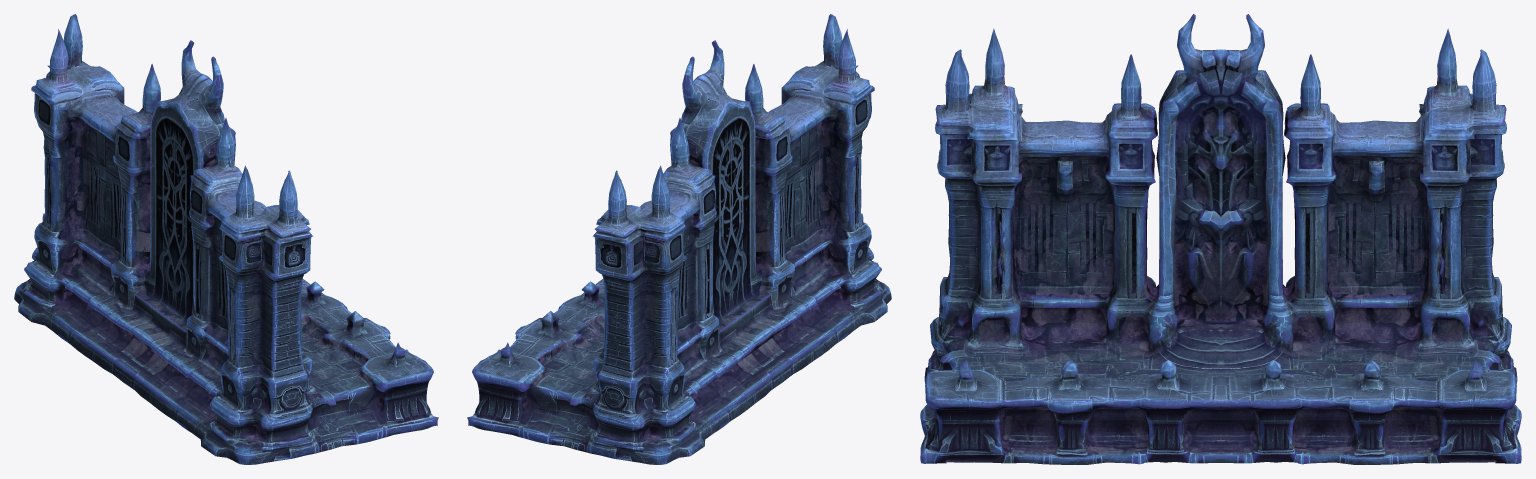
File: BossENT1.fbx
The picture shows the model from 3 angles, left to right: view 1: azimuth 30°, elevation 25°; view 2: azimuth 150°, elevation 25°; view 3: azimuth 270°, elevation 25°; orthographic projection. The views are drawn at different scales.
Visible parts, largest first — view 1: BossENT1; view 2: BossENT1; view 3: BossENT1.
Part boxes in pixels (x1,y1,x2,y2): BossENT1: [14, 14, 438, 464]; BossENT1: [467, 14, 891, 464]; BossENT1: [920, 14, 1521, 464].
Size of the model in its own units: 4.83 by 7.01 by 9.99.
1 material, 1 textured.
